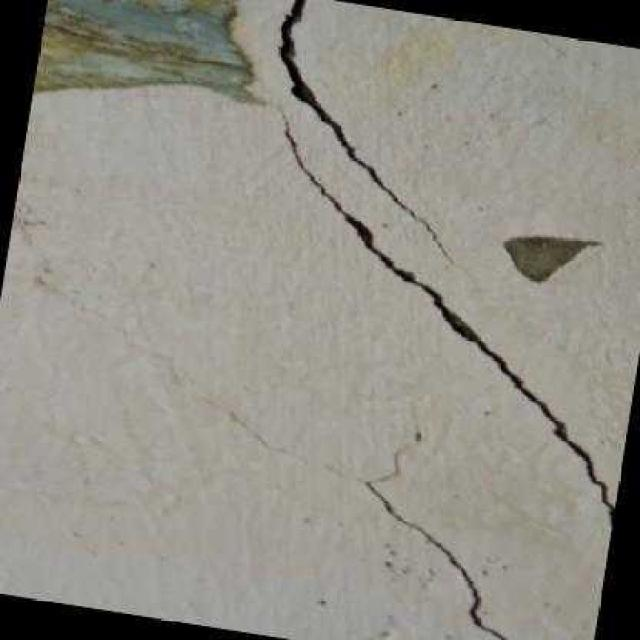D00: (277, 132, 616, 532), (268, 0, 447, 246), (359, 479, 520, 640)
